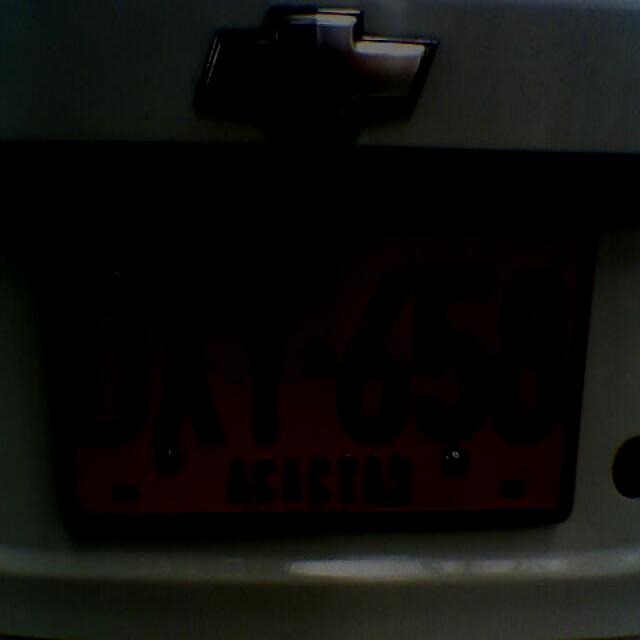placa: (36, 189, 598, 531)
